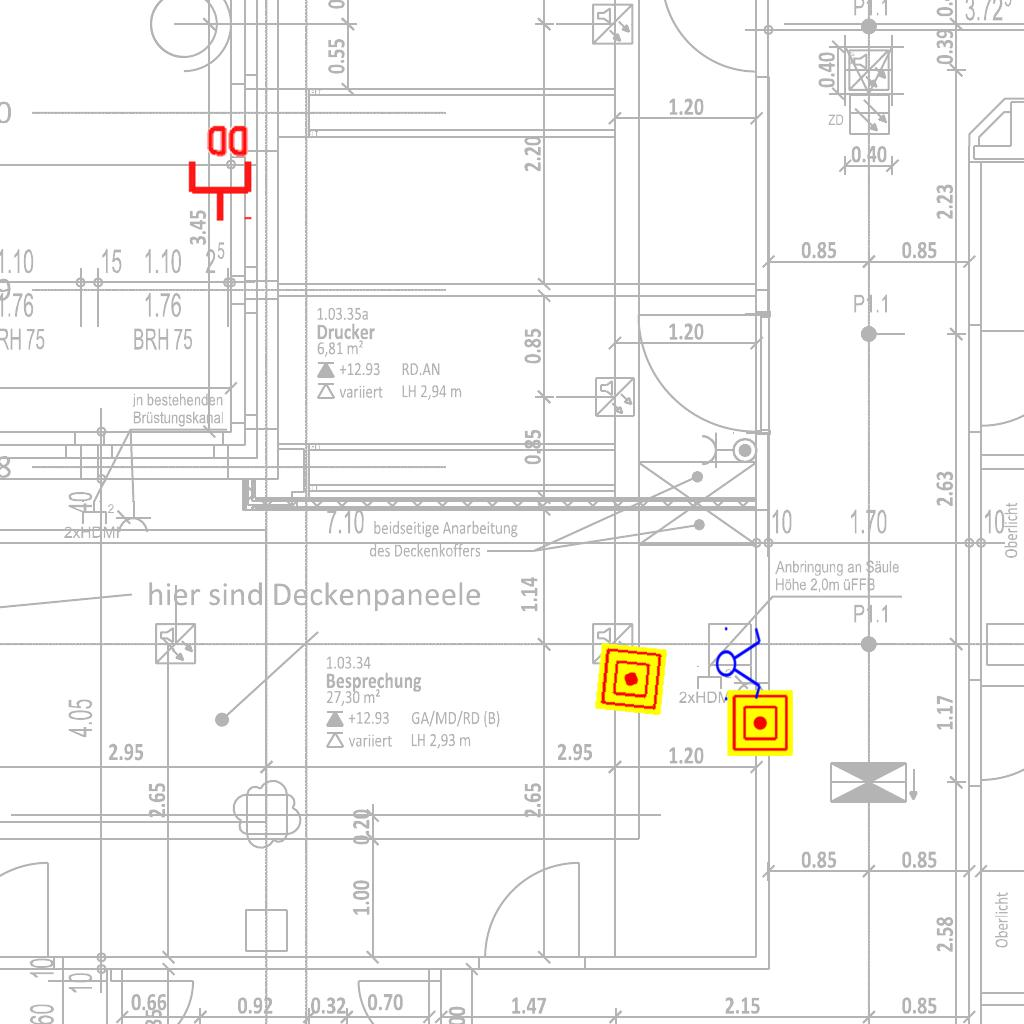Datenanschluss_zweifach: (184, 121, 253, 224)
NAM-Nichtautomatischer_Melder: (594, 642, 668, 716), (727, 690, 793, 756)
Serienschalter: (715, 621, 763, 705)
